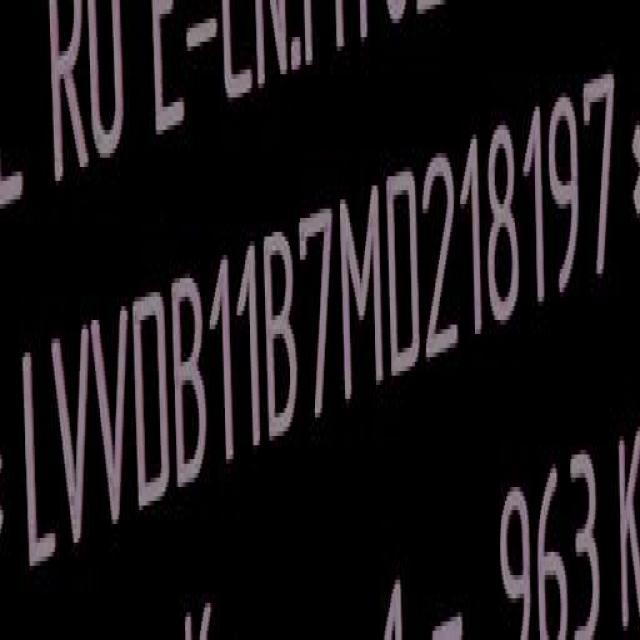1: (236, 245, 262, 460), (522, 103, 547, 318), (211, 258, 236, 468), (462, 136, 484, 344)
2: (422, 150, 461, 360)
7: (583, 62, 621, 290), (300, 199, 338, 424)
8: (488, 117, 522, 330)
9: (547, 87, 584, 305)
B: (172, 276, 210, 490), (263, 232, 300, 443)
D: (130, 288, 168, 512), (387, 163, 425, 376)
L: (19, 342, 56, 573)
M: (341, 181, 389, 399)
V: (49, 328, 90, 558), (91, 305, 131, 537)
